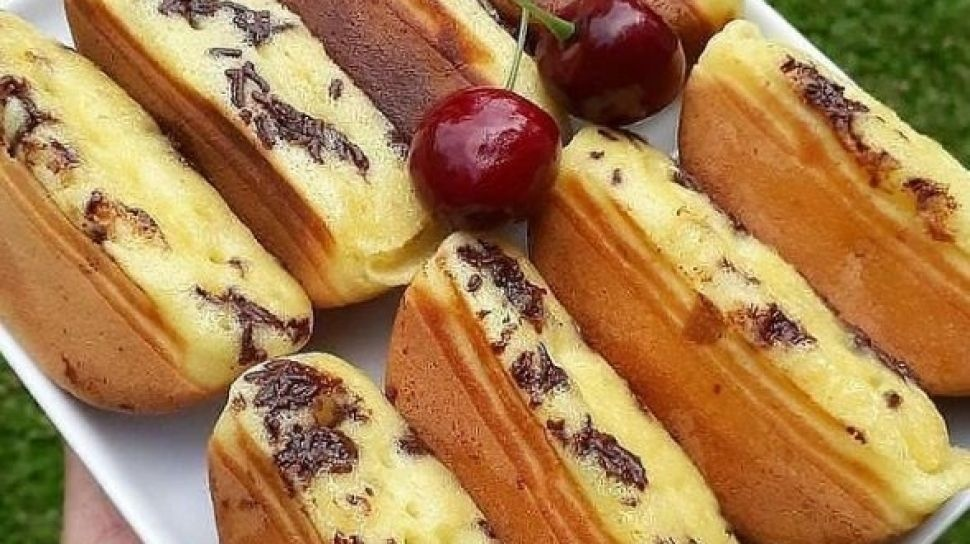pukis: (520, 103, 948, 539)
